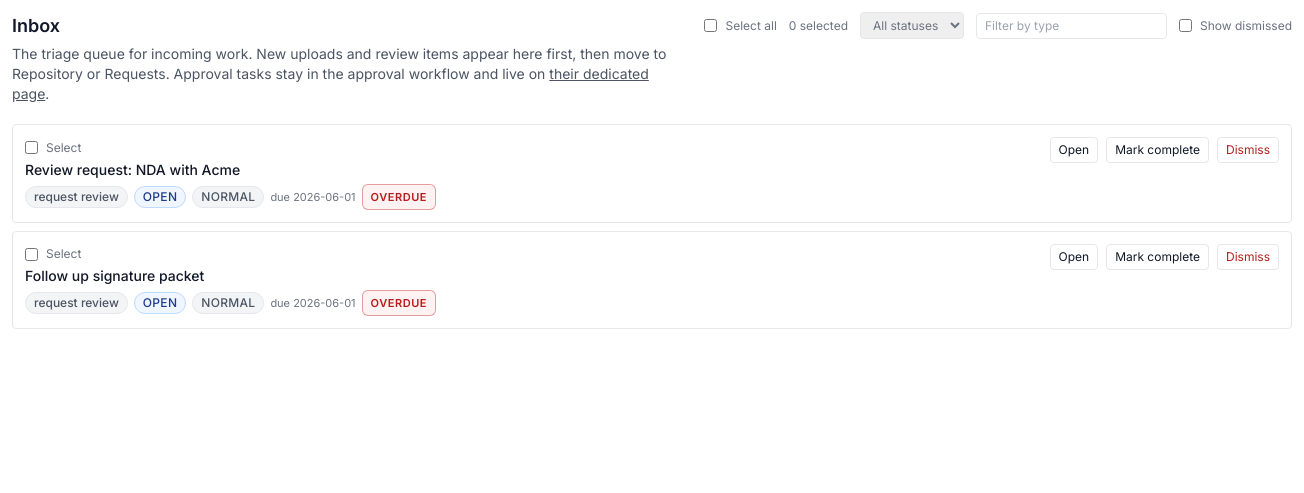
it: InboxPage › supports select-all for visible rows
Expected: the link "Review request: NDA with Acme" is shown, [25, 160, 240, 178]
Step 1. Click the checkbox with test id "inbox-select-all" → {"x": 711, "y": 26}, box [704, 19, 718, 32]
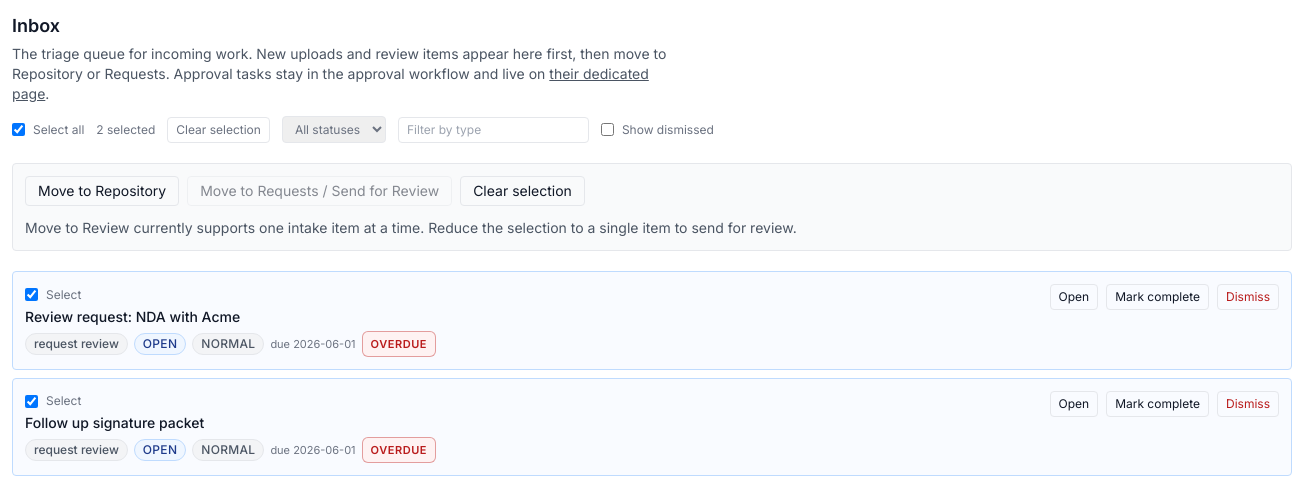
Now the text with test id "inbox-selected-count" reads "2 selected", box [96, 122, 155, 138]
Step 2. Click the checkbox with test id "inbox-select-all" → {"x": 18, "y": 130}, box [12, 123, 25, 136]
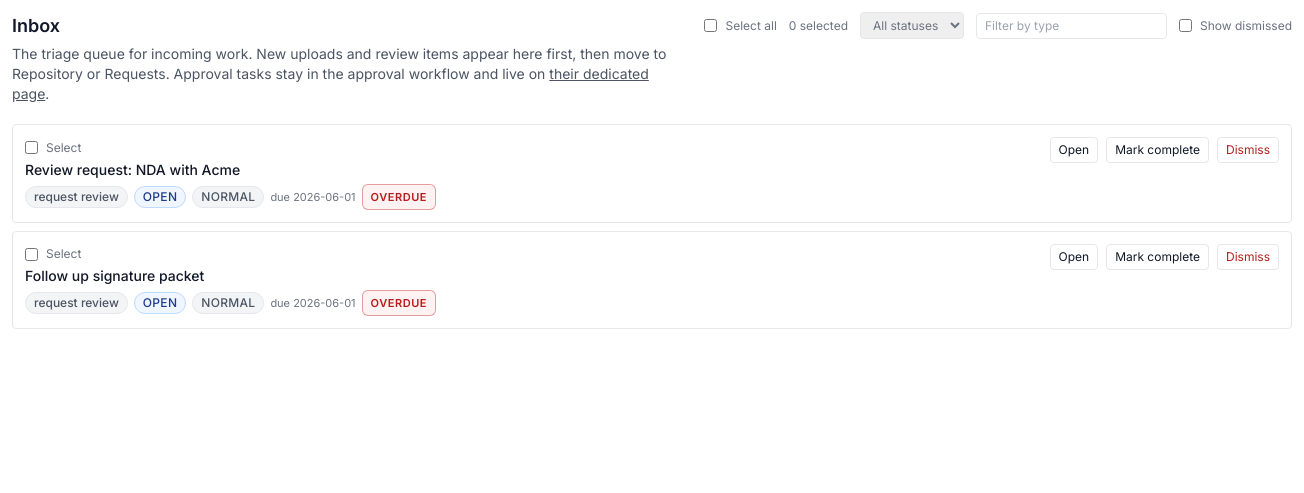
Now the text with test id "inbox-selected-count" reads "0 selected", box [789, 18, 848, 34]
